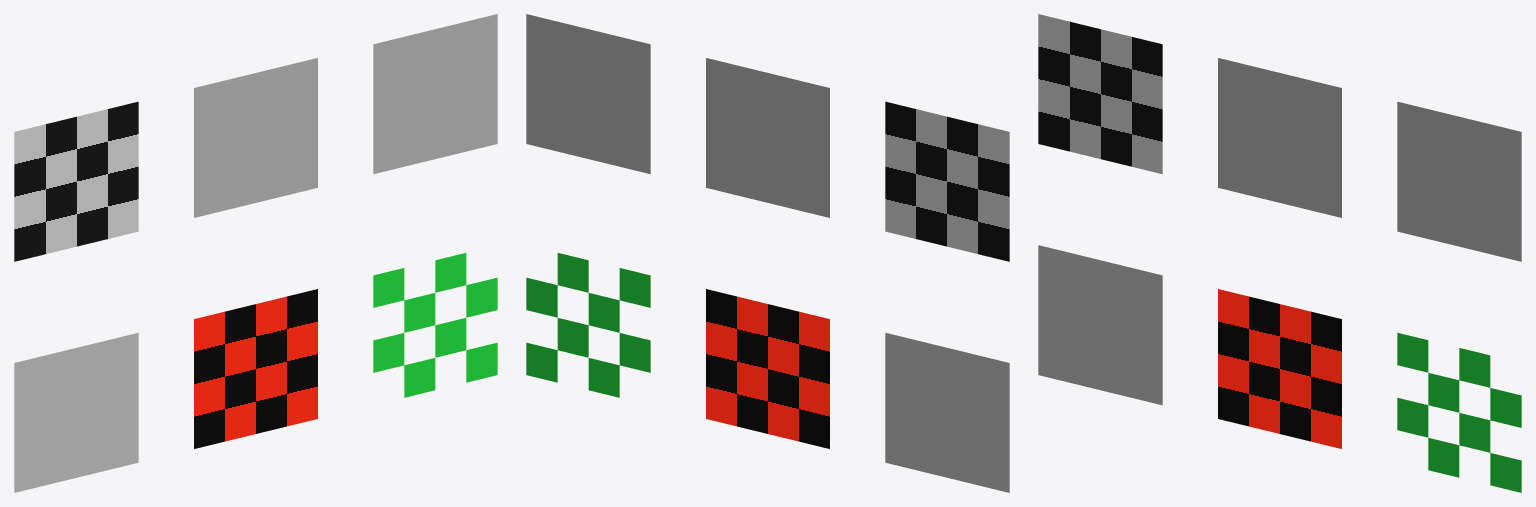
Rendered from material-channels-v1.glb.
3 renders of one model, left to right at view 1: azimuth 30°, elevation 25°; view 2: azimuth 150°, elevation 25°; view 3: azimuth 330°, elevation 25°, orthographic.
Parts seen in each view (by area): view 1: AlbedoCheckerPanel, SharedOrmResponsePanel, AoResponsePanel, NormalResponsePanel, EmissiveResponsePanel, AlphaResponsePanel; view 2: AlbedoCheckerPanel, SharedOrmResponsePanel, AoResponsePanel, NormalResponsePanel, EmissiveResponsePanel, AlphaResponsePanel; view 3: AlbedoCheckerPanel, SharedOrmResponsePanel, AoResponsePanel, NormalResponsePanel, EmissiveResponsePanel, AlphaResponsePanel.
Part boxes in pixels (x1,y1,x2,y2): AlbedoCheckerPanel: (14, 101, 138, 261); SharedOrmResponsePanel: (373, 14, 497, 174); AoResponsePanel: (14, 332, 138, 492); NormalResponsePanel: (194, 58, 317, 217); EmissiveResponsePanel: (194, 289, 317, 448); AlphaResponsePanel: (373, 253, 497, 397); AlbedoCheckerPanel: (885, 101, 1009, 261); SharedOrmResponsePanel: (526, 14, 650, 174); AoResponsePanel: (885, 332, 1009, 492); NormalResponsePanel: (706, 58, 829, 217); EmissiveResponsePanel: (706, 289, 829, 448); AlphaResponsePanel: (526, 253, 650, 397); AlbedoCheckerPanel: (1038, 14, 1162, 174); SharedOrmResponsePanel: (1397, 101, 1521, 261); AoResponsePanel: (1038, 245, 1162, 405); NormalResponsePanel: (1218, 58, 1341, 217); EmissiveResponsePanel: (1218, 289, 1341, 448); AlphaResponsePanel: (1397, 332, 1521, 492).
Bounding box in the file's own units: 7 × 5 × 0.
6 materials, 3 textured.
